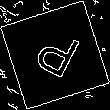P_SW: (27, 24, 83, 86)
